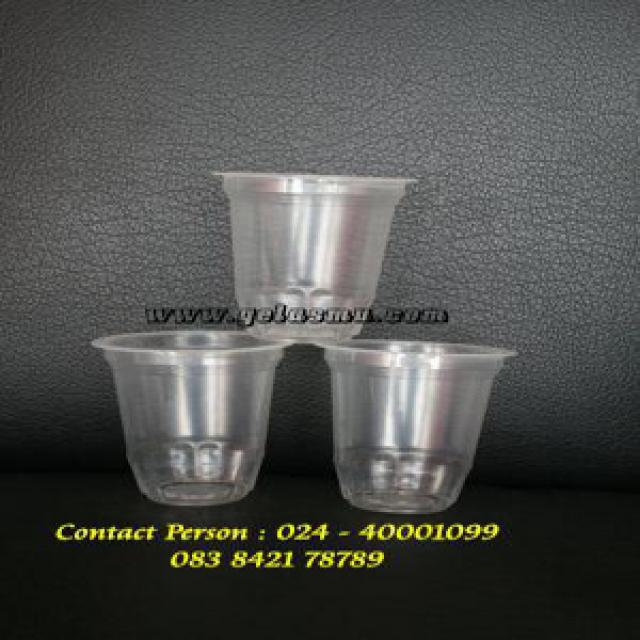plastic cup: (203, 162, 422, 348), (307, 333, 521, 520), (85, 329, 301, 512)
